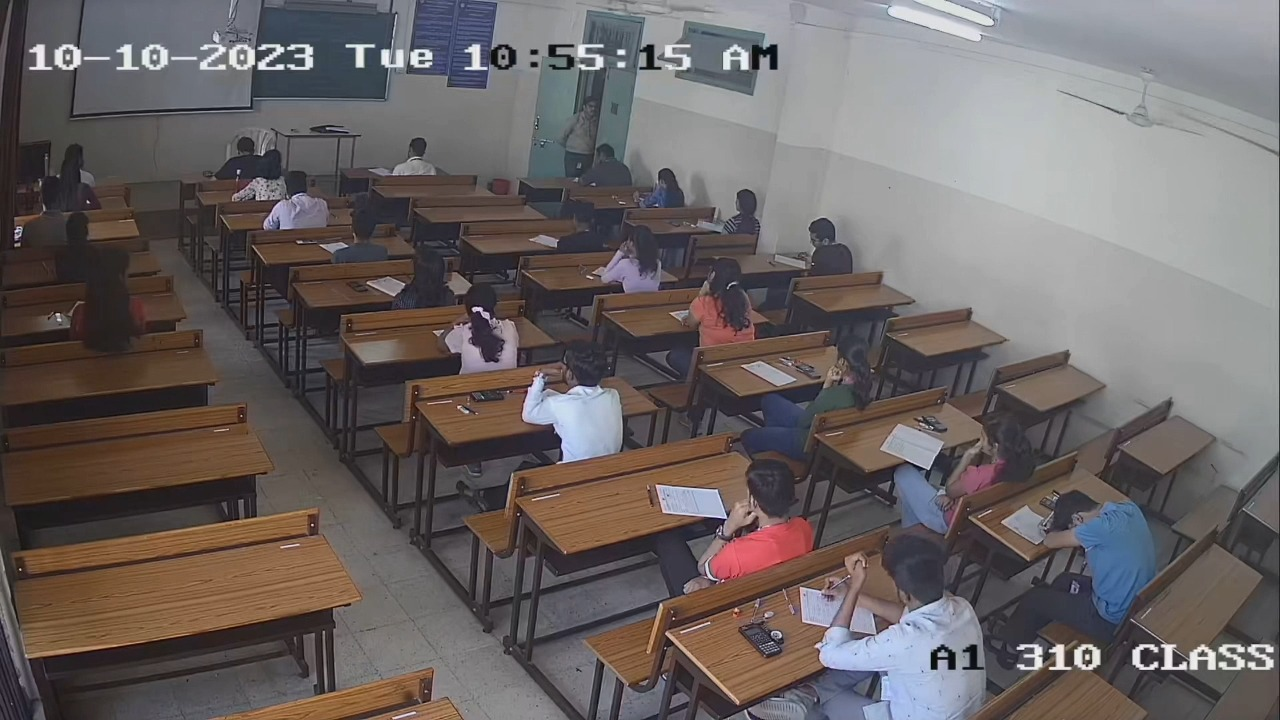cell-phones: (740, 620, 785, 657), (792, 353, 825, 384), (473, 385, 505, 407), (922, 413, 949, 436), (350, 280, 369, 294)
person: (812, 533, 988, 720), (518, 339, 626, 461), (938, 412, 1035, 494), (786, 336, 874, 410), (377, 245, 457, 311)
